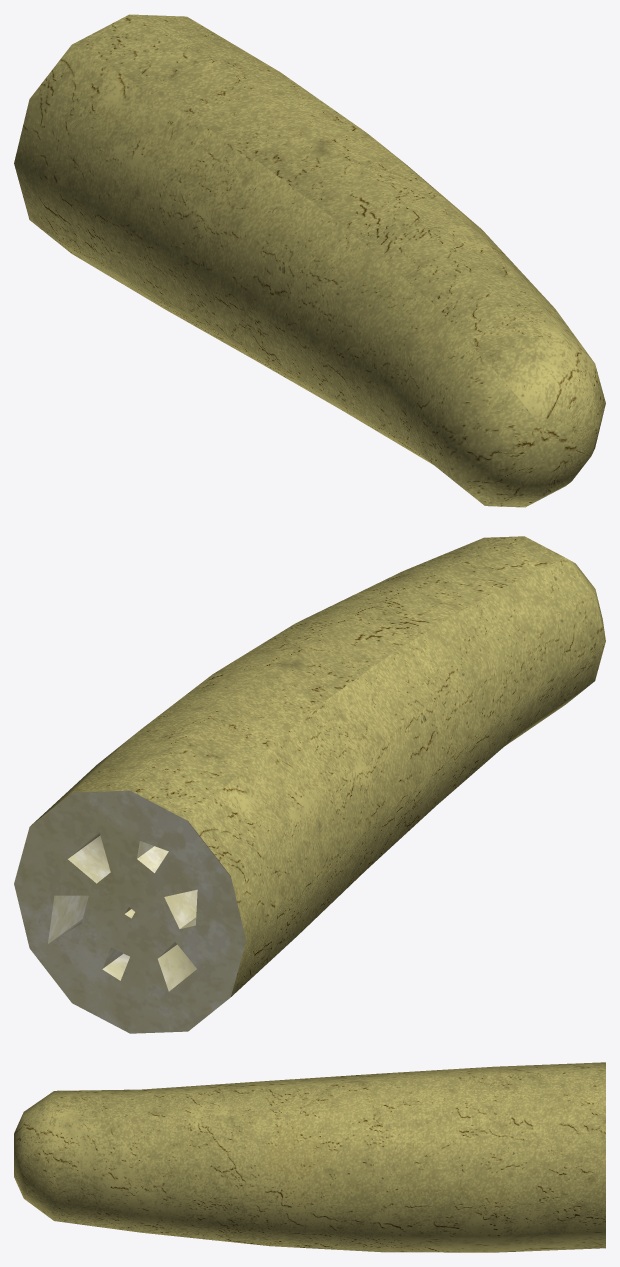
File: ITM_LotusRoot.fbx
The picture shows the model from 3 angles, top to bottom: view 1: azimuth 30°, elevation 25°; view 2: azimuth 150°, elevation 25°; view 3: azimuth 270°, elevation 25°; orthographic projection. The views are drawn at different scales.
Visible parts, largest first — view 1: LotusRoot_UVs:pCylinder1; view 2: LotusRoot_UVs:pCylinder1; view 3: LotusRoot_UVs:pCylinder1.
Boxes of the visible parts, x1,y1,x2,y2 form: LotusRoot_UVs:pCylinder1: (14,14,605,507); LotusRoot_UVs:pCylinder1: (14,536,605,1033); LotusRoot_UVs:pCylinder1: (14,1062,605,1252).
Size of the model in its own units: 2.15 by 2 by 6.34.
1 material, 1 textured.
